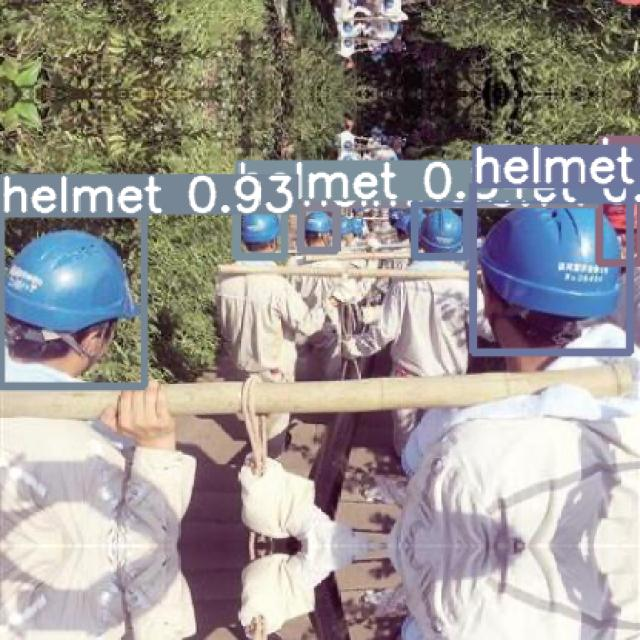helmet: (472, 184, 630, 352), (0, 213, 143, 385), (598, 174, 640, 262), (414, 202, 466, 256), (235, 199, 283, 256), (300, 207, 335, 250)
